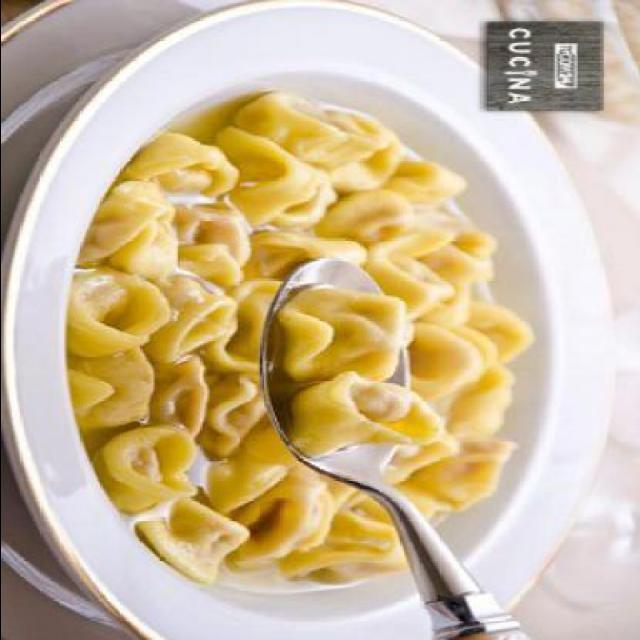Tortellini in broth: (117, 145, 511, 549)
